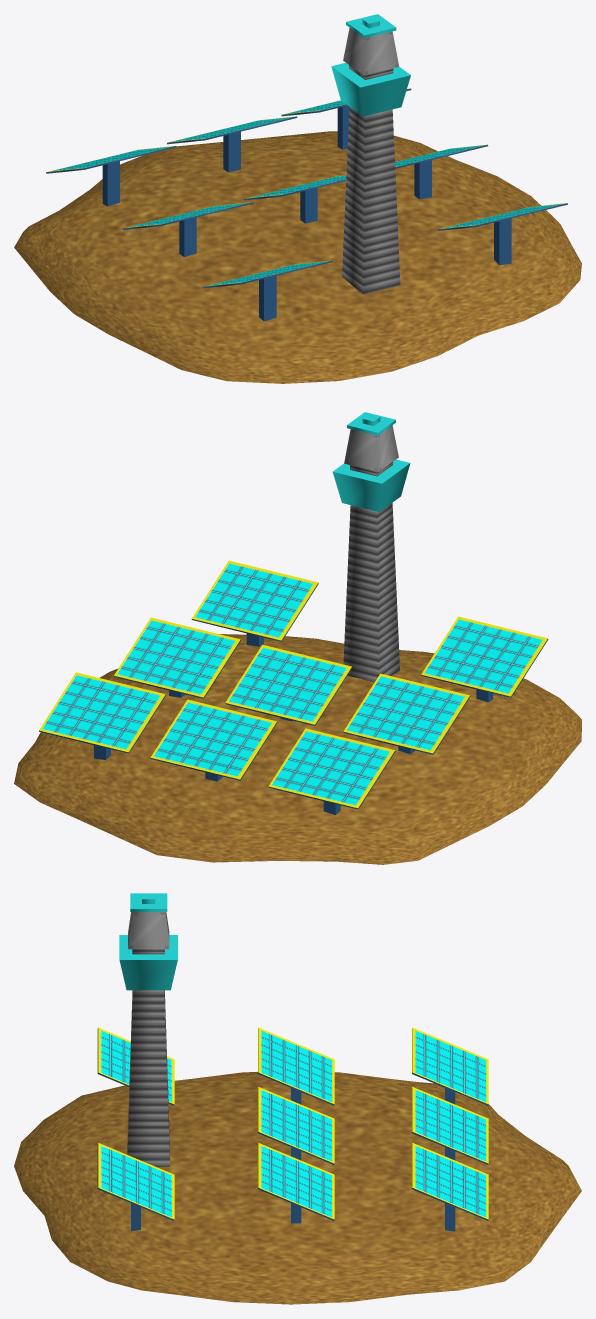
File: SolarFarm.FBX
3 renders of one model, top to bottom at view 1: azimuth 30°, elevation 25°; view 2: azimuth 150°, elevation 25°; view 3: azimuth 270°, elevation 25°, orthographic. The views are drawn at different scales.
Visible parts, largest first — view 1: Sphere001, Box002, Box020, Box022, Box016, Box015, Box019, Box018, Box017, Box012; view 2: Sphere001, Box002, Box012, Box020, Box016, Box022, Box015, Box019, Box017, Box018; view 3: Sphere001, Box002, Box020, Box012, Box017, Box016, Box019, Box015, Box018, Box022.
Part boxes in pixels (x1=…): Sphere001: x1=14, y1=131, x2=581, y2=383; Box002: x1=331, y1=14, x2=410, y2=294; Box020: x1=437, y1=203, x2=567, y2=265; Box022: x1=202, y1=260, x2=332, y2=321; Box016: x1=46, y1=146, x2=176, y2=206; Box015: x1=167, y1=116, x2=297, y2=172; Box019: x1=122, y1=202, x2=252, y2=256; Box018: x1=243, y1=175, x2=346, y2=223; Box017: x1=395, y1=144, x2=487, y2=199; Box012: x1=281, y1=88, x2=411, y2=149; Sphere001: x1=14, y1=634, x2=581, y2=864; Box002: x1=332, y1=412, x2=410, y2=682; Box012: x1=39, y1=672, x2=165, y2=759; Box020: x1=191, y1=560, x2=318, y2=646; Box016: x1=268, y1=728, x2=395, y2=815; Box022: x1=421, y1=616, x2=548, y2=702; Box015: x1=150, y1=699, x2=277, y2=781; Box019: x1=343, y1=673, x2=470, y2=754; Box017: x1=114, y1=617, x2=240, y2=698; Box018: x1=225, y1=644, x2=352, y2=725; Sphere001: x1=14, y1=1071, x2=581, y2=1304; Box002: x1=119, y1=893, x2=177, y2=1167; Box020: x1=97, y1=1143, x2=174, y2=1231; Box012: x1=412, y1=1143, x2=488, y2=1231; Box017: x1=258, y1=1143, x2=334, y2=1223; Box016: x1=412, y1=1027, x2=488, y2=1105; Box019: x1=258, y1=1027, x2=334, y2=1105; Box015: x1=412, y1=1087, x2=488, y2=1164; Box018: x1=258, y1=1087, x2=334, y2=1164; Box022: x1=97, y1=1027, x2=174, y2=1105.
Bounding box in the file's own units: 83.25 × 50.16 × 88.32.
